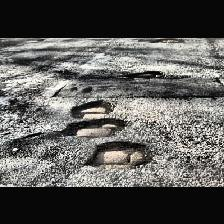pothole: (82, 140, 152, 168), (59, 117, 127, 137), (70, 99, 114, 117), (121, 69, 165, 77), (150, 38, 186, 42)
